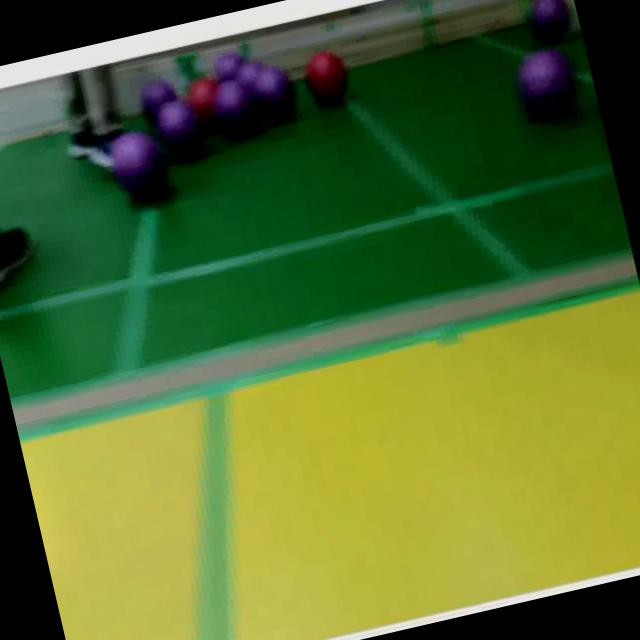purple_ball: (506, 41, 590, 133), (104, 126, 178, 210), (154, 98, 206, 171), (211, 78, 261, 142), (255, 68, 304, 130), (138, 74, 184, 125), (526, 0, 577, 46), (232, 61, 274, 93), (210, 48, 246, 82)
red_ball: (299, 46, 352, 110), (184, 76, 223, 132)
